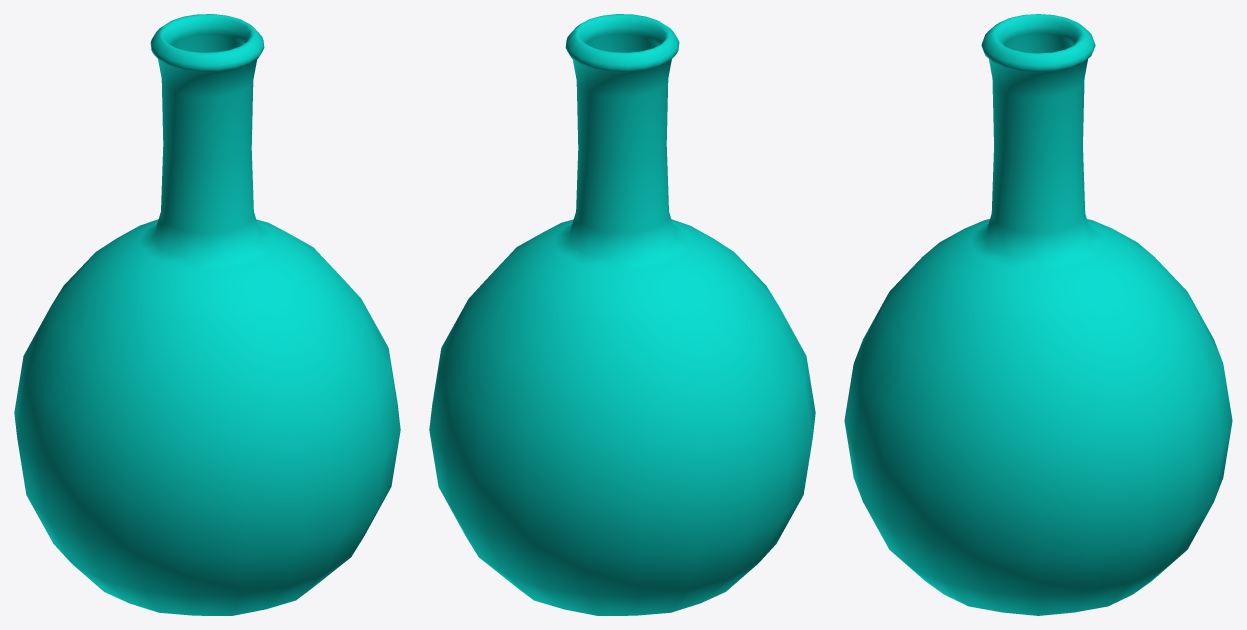
File: postion_low.fbx
3 views of the same model, side by side, from view 1: azimuth 30°, elevation 25°; view 2: azimuth 150°, elevation 25°; view 3: azimuth 270°, elevation 25° (orthographic).
Visible parts, largest first — view 1: Sphere004; view 2: Sphere004; view 3: Sphere004.
Part boxes in pixels (x1,y1,x2,y2): Sphere004: [14, 14, 400, 615]; Sphere004: [429, 14, 815, 615]; Sphere004: [844, 14, 1232, 615].
Bounding box in the file's own units: 42.01 × 65.03 × 42.06.
